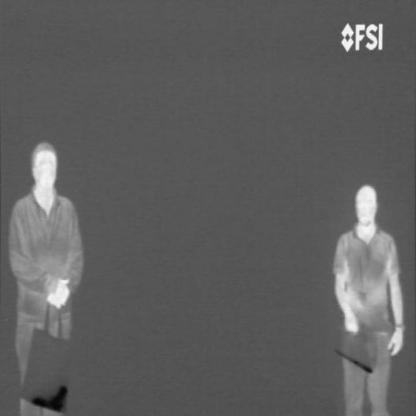weapon: (30, 382, 68, 414)
